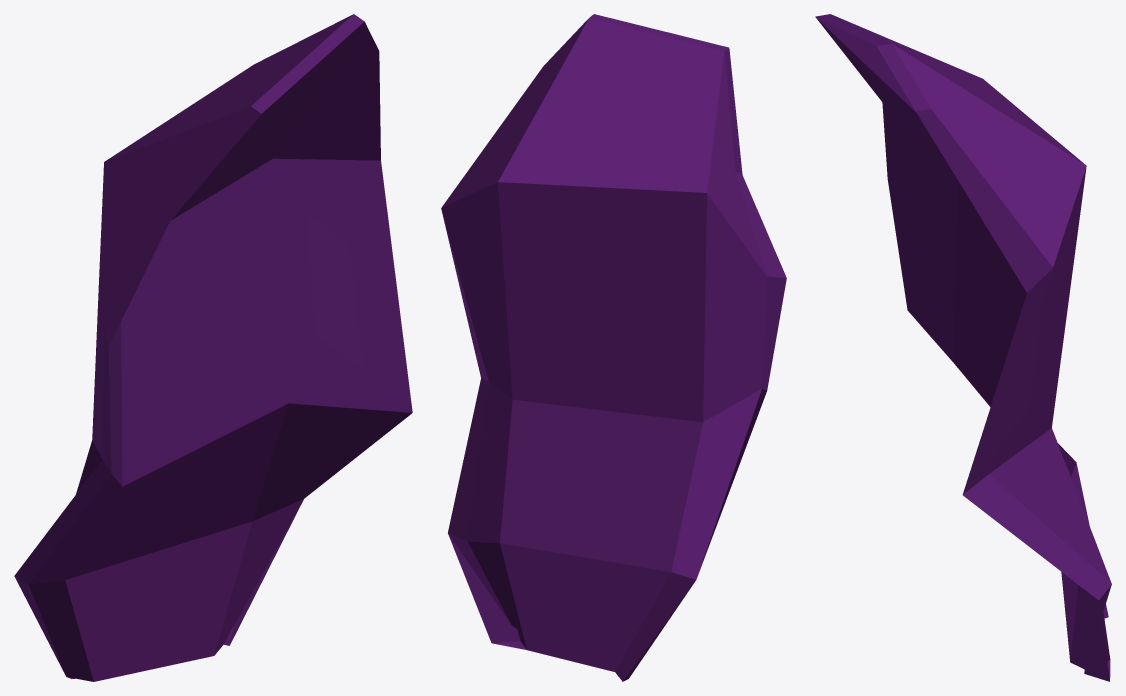
The model's file is Left_Standard.fbx.
3 renders of one model, left to right at view 1: azimuth 30°, elevation 25°; view 2: azimuth 150°, elevation 25°; view 3: azimuth 270°, elevation 25°, orthographic. The views are drawn at different scales.
Visible parts, largest first — view 1: Stamdard; view 2: Stamdard; view 3: Stamdard.
Boxes of the visible parts, bbox=[...] form: Stamdard: bbox=[14, 14, 412, 681]; Stamdard: bbox=[441, 14, 786, 681]; Stamdard: bbox=[815, 14, 1111, 681].
Bounding box in the file's own units: 226 × 440 × 184.
